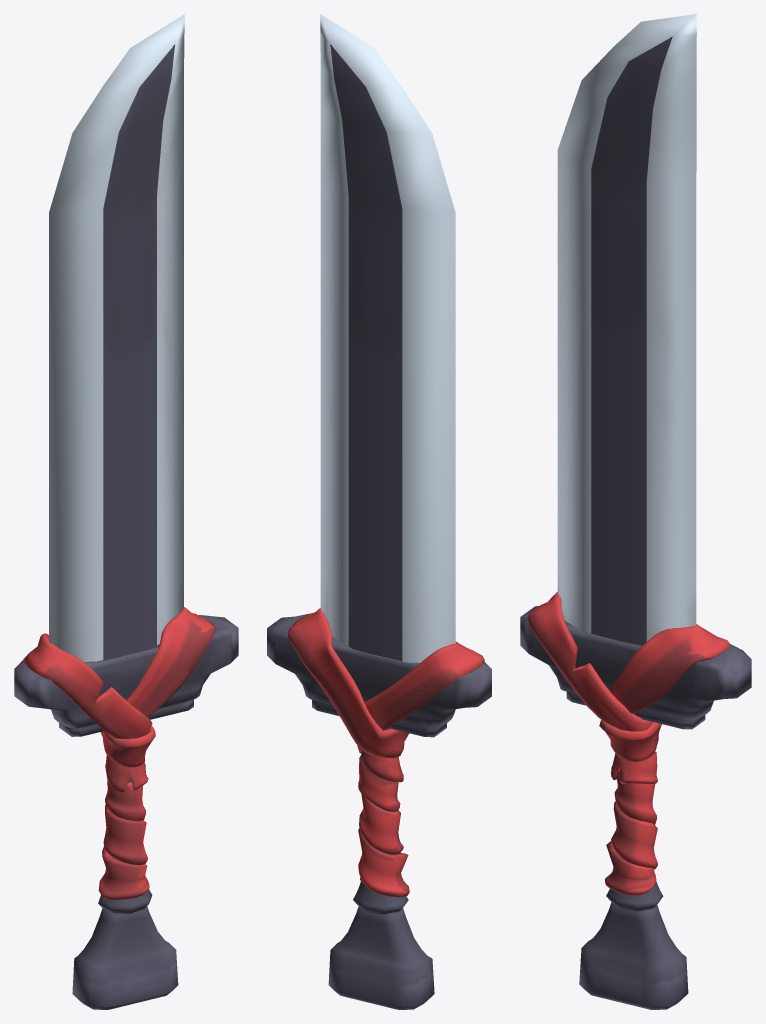
The model's file is EspadaLarga.fbx.
3 views of the same model, side by side, from view 1: azimuth 30°, elevation 25°; view 2: azimuth 150°, elevation 25°; view 3: azimuth 330°, elevation 25° (orthographic). The views are drawn at different scales.
Parts seen in each view (by area): view 1: Plane.000, Cube.001, Cube, Plane.001, Circle.001; view 2: Plane.000, Cube.001, Cube, Plane.001, Circle.001; view 3: Plane.000, Cube.001, Cube, Plane.001, Circle.001.
Boxes of the visible parts, box(x1,y1,x2,y2) form: Plane.000: box(49, 14, 184, 661); Cube.001: box(23, 607, 216, 900); Cube: box(72, 906, 178, 1009); Plane.001: box(14, 615, 238, 736); Circle.001: box(98, 776, 152, 913); Plane.000: box(320, 14, 455, 662); Cube.001: box(288, 608, 484, 897); Cube: box(328, 906, 434, 1009); Plane.001: box(267, 613, 491, 737); Circle.001: box(353, 728, 408, 914); Plane.000: box(557, 14, 696, 645); Cube.001: box(527, 592, 729, 895); Cube: box(579, 902, 688, 1009); Plane.001: box(520, 606, 751, 729); Circle.001: box(606, 880, 663, 911).
Size of the model in its own units: 68.1 by 299 by 20.65.
